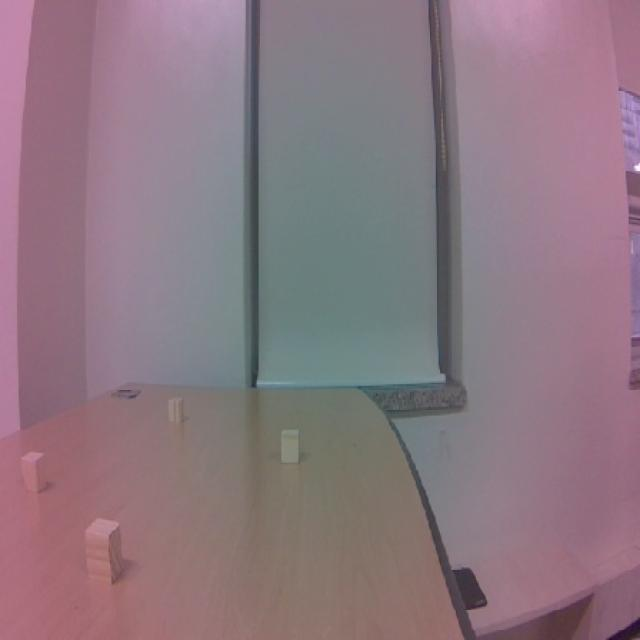obstacle: (81, 514, 127, 590), (19, 448, 58, 501), (161, 392, 197, 434), (276, 426, 306, 466)
